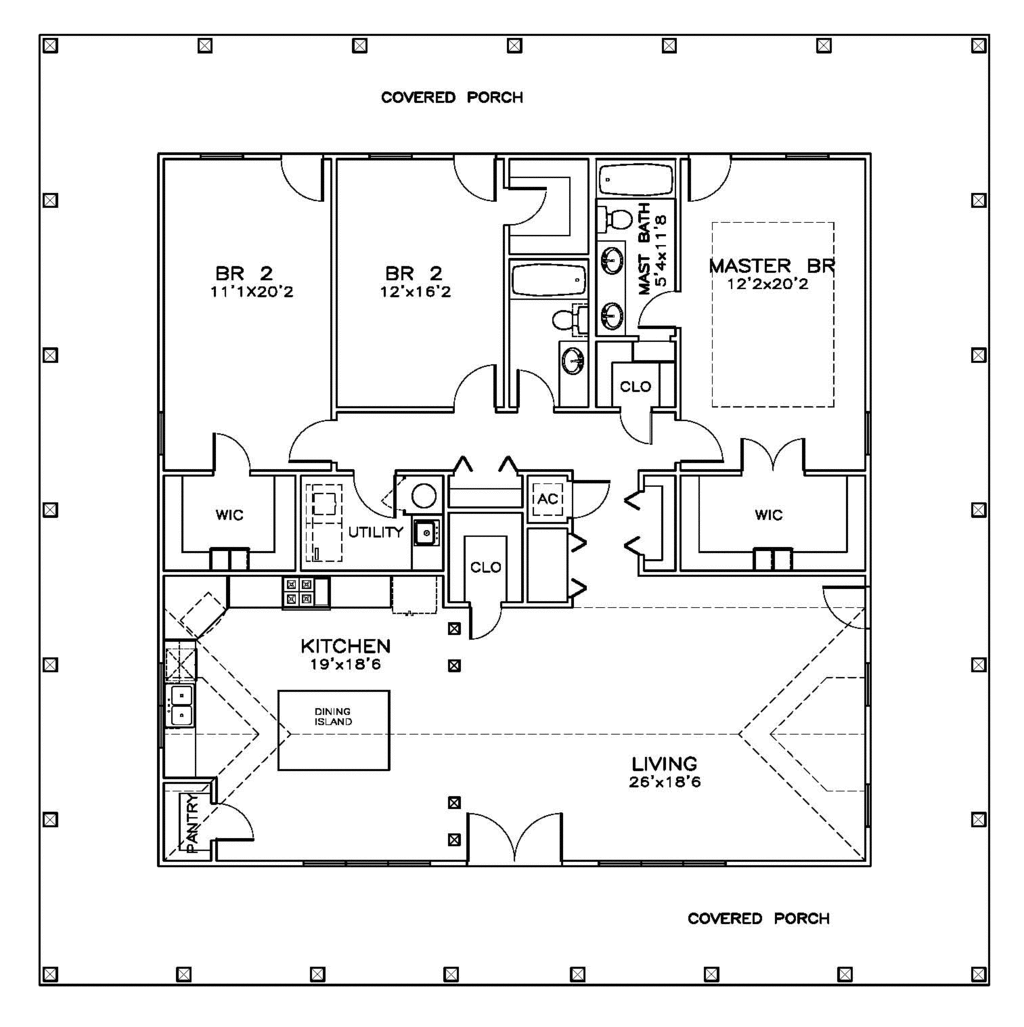door: (462, 812, 564, 863), (738, 436, 808, 476), (668, 414, 726, 462), (820, 580, 878, 628), (350, 465, 398, 520), (272, 153, 325, 202), (684, 153, 734, 203), (285, 413, 333, 464), (452, 155, 499, 205), (208, 428, 254, 477), (211, 798, 256, 844), (451, 364, 496, 408), (505, 182, 549, 227), (563, 476, 609, 516), (515, 366, 554, 413), (616, 402, 658, 444), (636, 290, 681, 327), (465, 599, 500, 639)
large_sink: (593, 202, 635, 243), (550, 306, 592, 346)
small_sink: (595, 239, 627, 341), (556, 344, 591, 403)
tub: (596, 158, 684, 202), (506, 261, 588, 301)
twin_sink: (164, 683, 193, 735)
